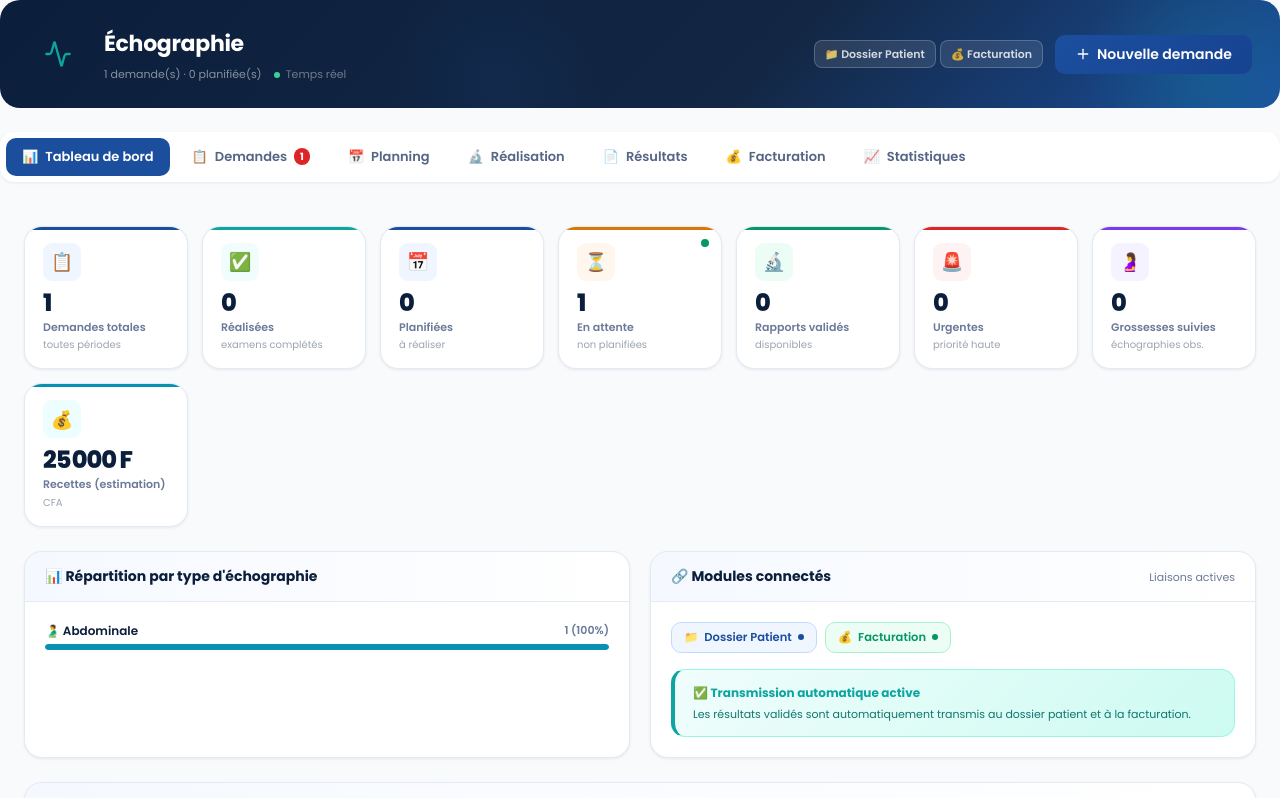
Test: ECHO-03 — au-delà de 100 demandes réelles, "Suivant" charge réellement la page 2
This screenshot has width=1280, height=798.
Click the button "📋 Demandes 1" at [251, 157], box [176,138,326,176]
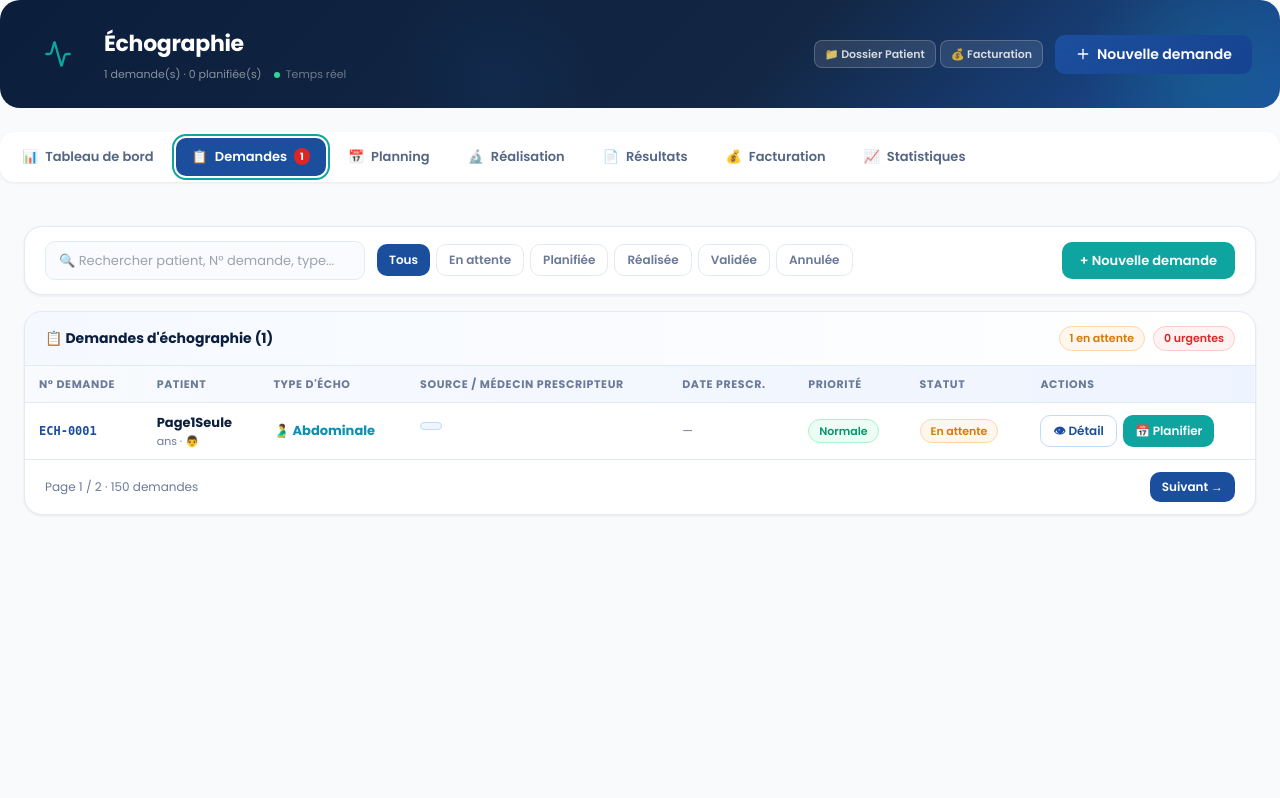
Expected: the text "ECH-0001" is shown, [25,402,143,459]
Expected: the text "Page 1 / 2 · 150 demandes" is shown, [45,478,198,496]
Click the button "Suivant →" at [1192, 487], box [1150,472,1235,502]
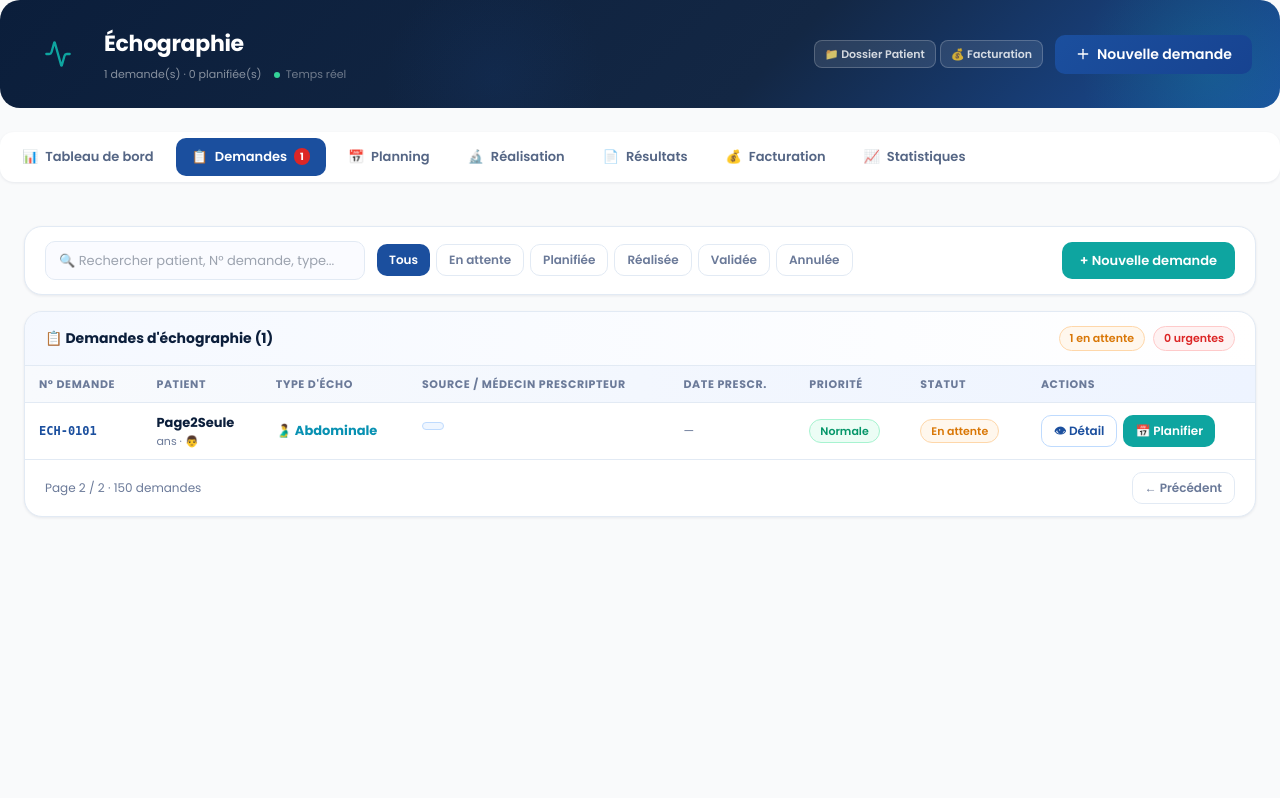
Expected: the text "ECH-0101" is shown, [25,402,142,459]
Expected: the text "ECH-0001" is gone
Expected: the text "Page 2 / 2 · 150 demandes" is shown, [45,479,201,497]
